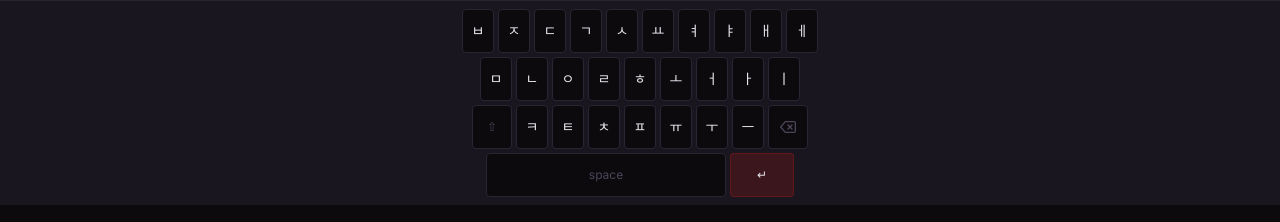
it: HangulKeyboard › toggles shift mode when shift is clicked
Expected: the button "ㅂ" is shown, [462,9,494,53]
// Click shift
Click the button "⇧" at (492, 127), box [472,105,512,149]
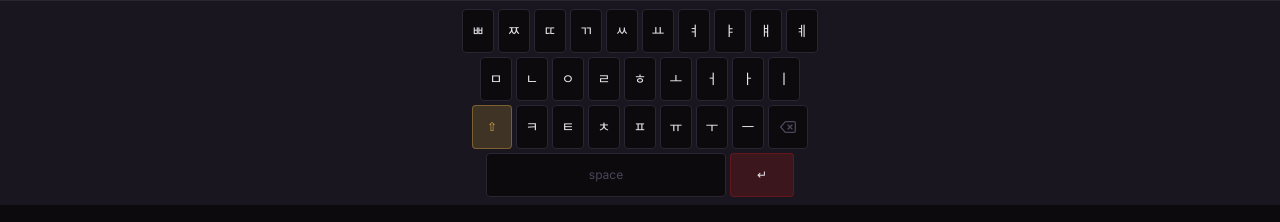
Now the button "ㅃ" is shown, box [462,9,494,53]
Now the button "ㅉ" is shown, box [498,9,530,53]
Now the button "ㄸ" is shown, box [534,9,566,53]
